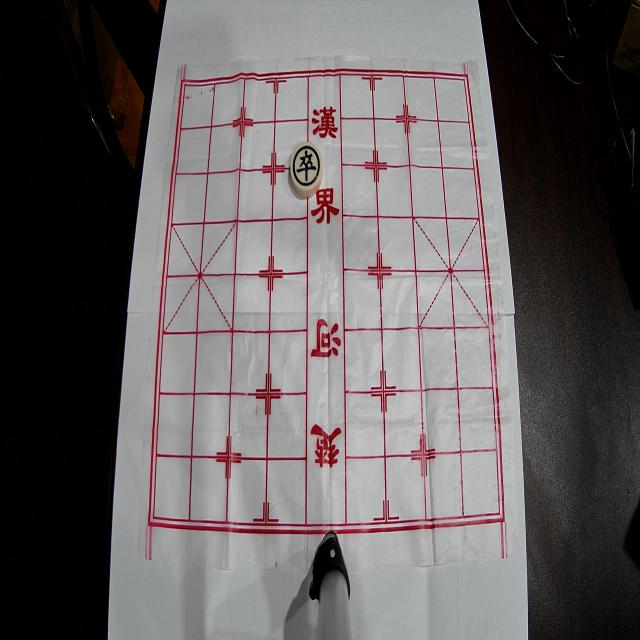black-soldier: (290, 142, 323, 196)
